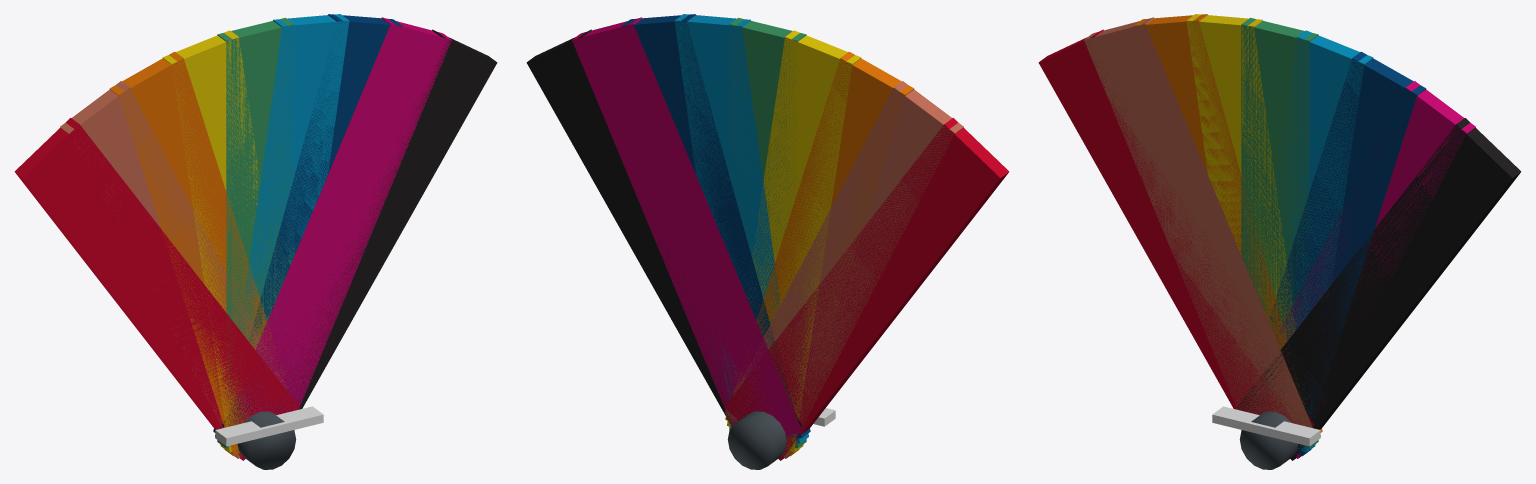
Rendered from m_swatch.glb.
The picture shows the model from 3 angles, left to right: view 1: azimuth 30°, elevation 25°; view 2: azimuth 150°, elevation 25°; view 3: azimuth 330°, elevation 25°; orthographic projection.
Parts seen in each view (by area): view 1: m_swatch; view 2: m_swatch; view 3: m_swatch.
Boxes of the visible parts, x1,y1,x2,y2 form: m_swatch: [14, 14, 497, 469]; m_swatch: [526, 14, 1009, 469]; m_swatch: [1038, 14, 1521, 469].
Bounding box in the file's own units: 0.2435 × 0.2105 × 0.032.
